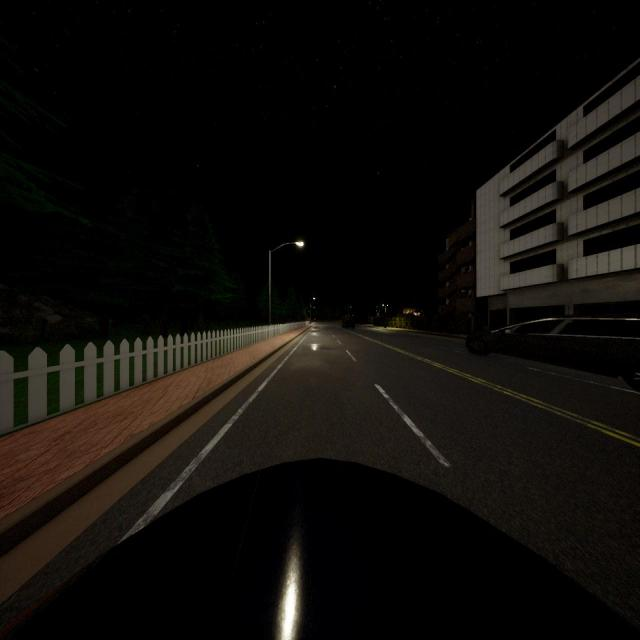Vehicle: (0, 455, 640, 640), (467, 315, 640, 393), (342, 319, 356, 330)
